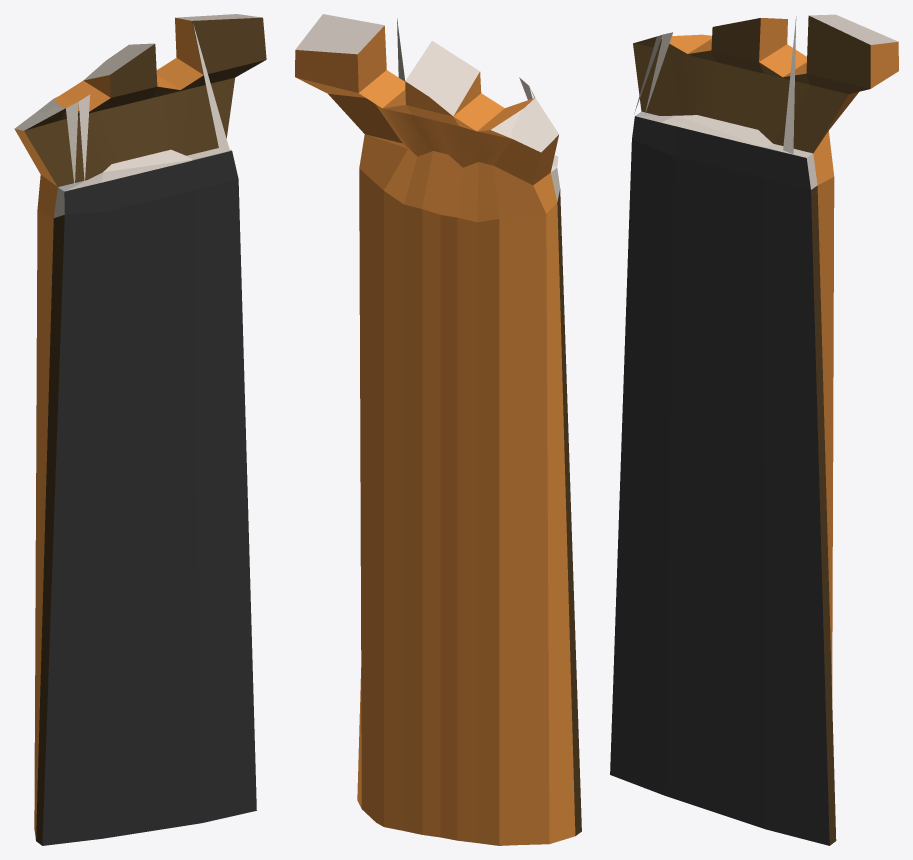
The model's file is lutePiece4.fbx.
3 views of the same model, side by side, from view 1: azimuth 30°, elevation 25°; view 2: azimuth 150°, elevation 25°; view 3: azimuth 330°, elevation 25° (orthographic). The views are drawn at different scales.
Parts seen in each view (by area): view 1: Cube_cell.003; view 2: Cube_cell.003; view 3: Cube_cell.003.
Part boxes in pixels (bbox=[...]): Cube_cell.003: bbox=[14, 14, 266, 845]; Cube_cell.003: bbox=[295, 14, 581, 845]; Cube_cell.003: bbox=[610, 14, 898, 845].
Bounding box in the file's own units: 11.64 × 36.66 × 4.13.
